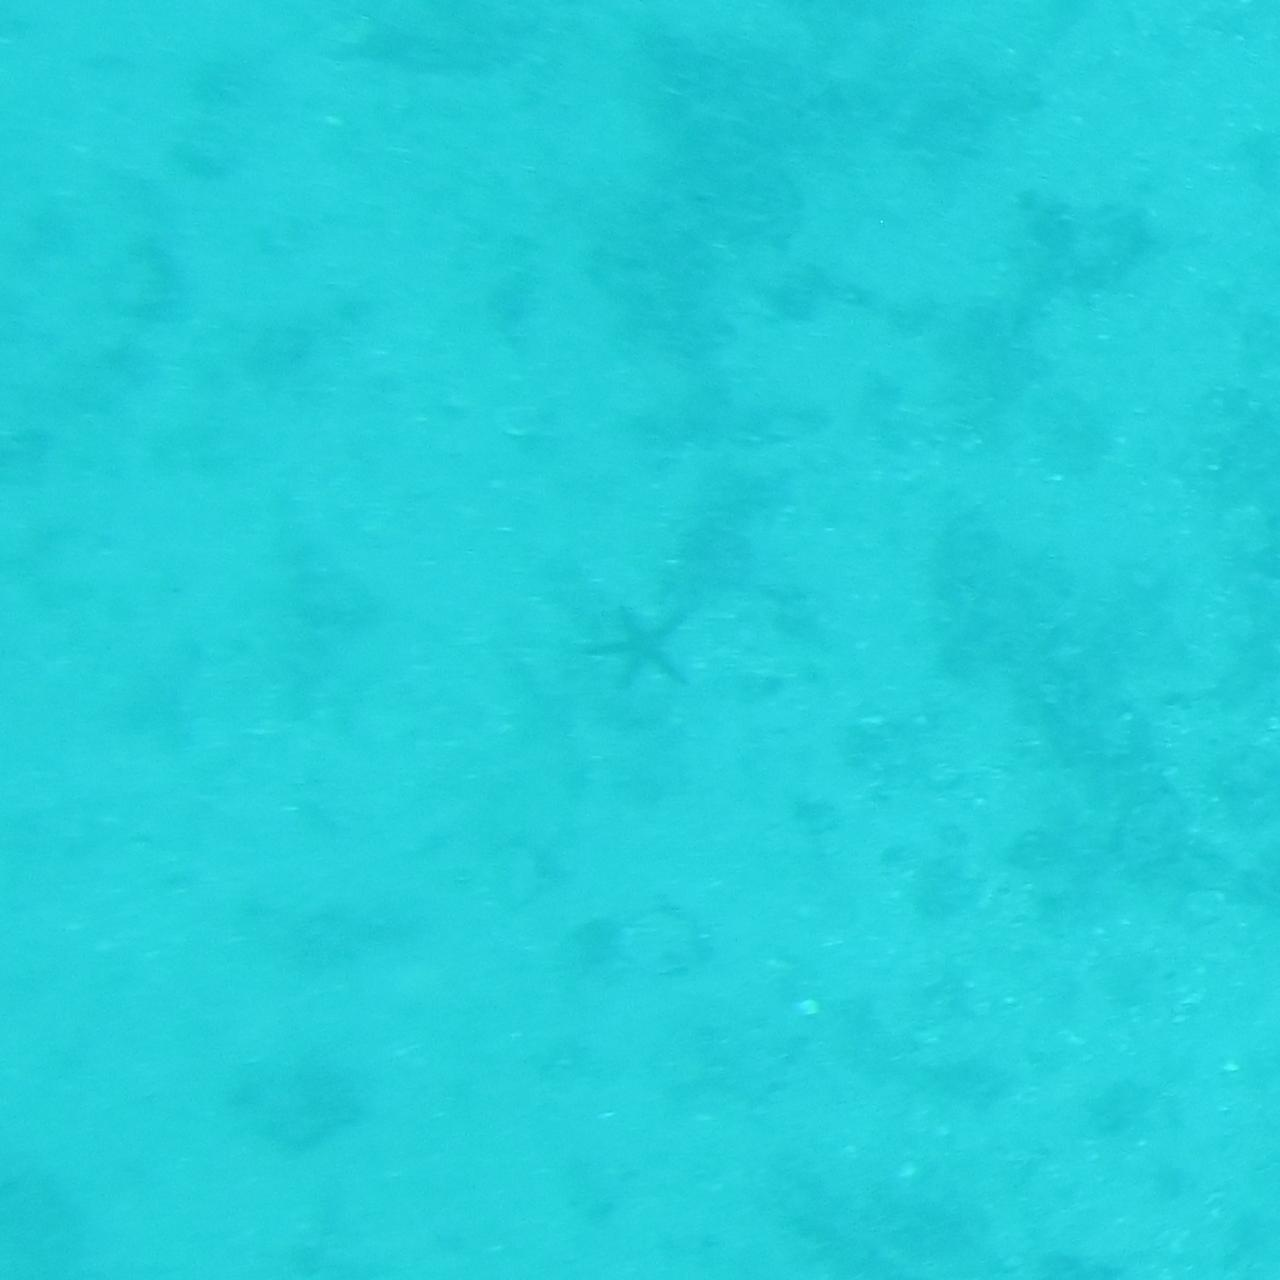Asteroidea: (581, 585, 699, 695)
